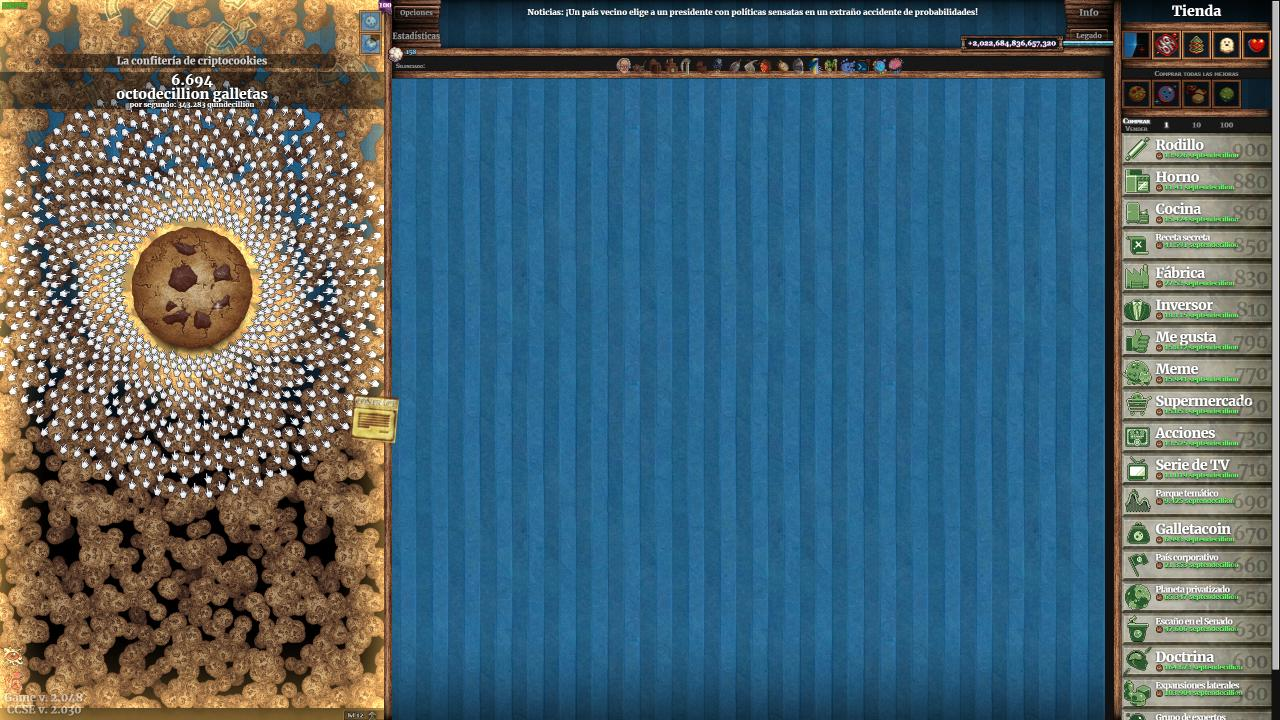GoldenCartridge: (349, 394, 402, 445)
